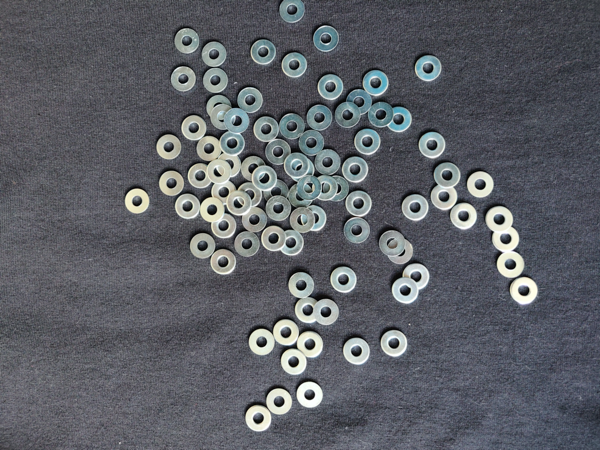circle: (243, 401, 275, 433), (246, 328, 279, 358), (188, 231, 216, 263), (510, 278, 540, 307), (449, 203, 479, 232), (265, 386, 292, 417), (250, 37, 277, 68), (415, 54, 444, 82), (418, 129, 446, 158), (491, 226, 521, 253), (496, 252, 526, 279), (272, 318, 299, 348), (466, 171, 494, 199), (173, 27, 201, 55), (431, 183, 458, 212), (403, 263, 430, 292), (296, 381, 323, 410), (253, 115, 279, 145), (486, 205, 513, 233), (433, 161, 460, 189), (401, 194, 429, 221), (381, 329, 408, 357), (342, 156, 370, 183), (344, 337, 371, 365), (297, 131, 325, 158), (200, 40, 227, 68), (311, 175, 337, 204), (125, 187, 150, 217), (363, 69, 390, 96), (343, 218, 370, 245), (313, 299, 340, 326), (236, 87, 263, 114), (391, 278, 419, 304), (345, 191, 373, 217), (297, 331, 323, 359), (302, 205, 328, 233), (251, 165, 277, 193), (209, 249, 237, 275), (182, 115, 208, 143), (205, 95, 233, 121), (313, 25, 339, 53), (379, 231, 406, 257), (388, 238, 414, 265), (289, 272, 315, 299), (324, 177, 350, 204), (175, 193, 201, 220), (158, 171, 184, 198), (210, 180, 237, 206), (216, 153, 242, 180), (210, 104, 236, 131), (171, 66, 197, 93), (317, 74, 343, 101), (241, 155, 266, 183), (156, 133, 181, 161), (368, 102, 394, 128), (346, 90, 372, 116), (355, 128, 381, 154), (332, 266, 358, 292), (242, 207, 268, 233), (282, 52, 308, 78), (282, 349, 307, 376), (297, 175, 322, 202), (279, 230, 304, 257), (267, 138, 292, 165), (211, 213, 236, 240), (387, 108, 413, 133), (317, 148, 342, 174), (308, 105, 333, 131), (289, 208, 314, 234), (265, 197, 291, 222), (280, 113, 305, 139), (237, 181, 262, 207), (187, 164, 213, 189), (220, 131, 246, 156), (203, 67, 228, 93), (294, 297, 318, 324), (289, 182, 313, 209), (262, 226, 286, 253), (235, 231, 259, 258), (278, 1, 306, 24), (335, 103, 360, 128), (263, 180, 289, 204), (228, 190, 252, 216), (200, 198, 224, 224), (207, 159, 231, 185), (196, 137, 222, 161), (224, 109, 250, 133), (290, 159, 315, 183), (285, 153, 309, 178)
